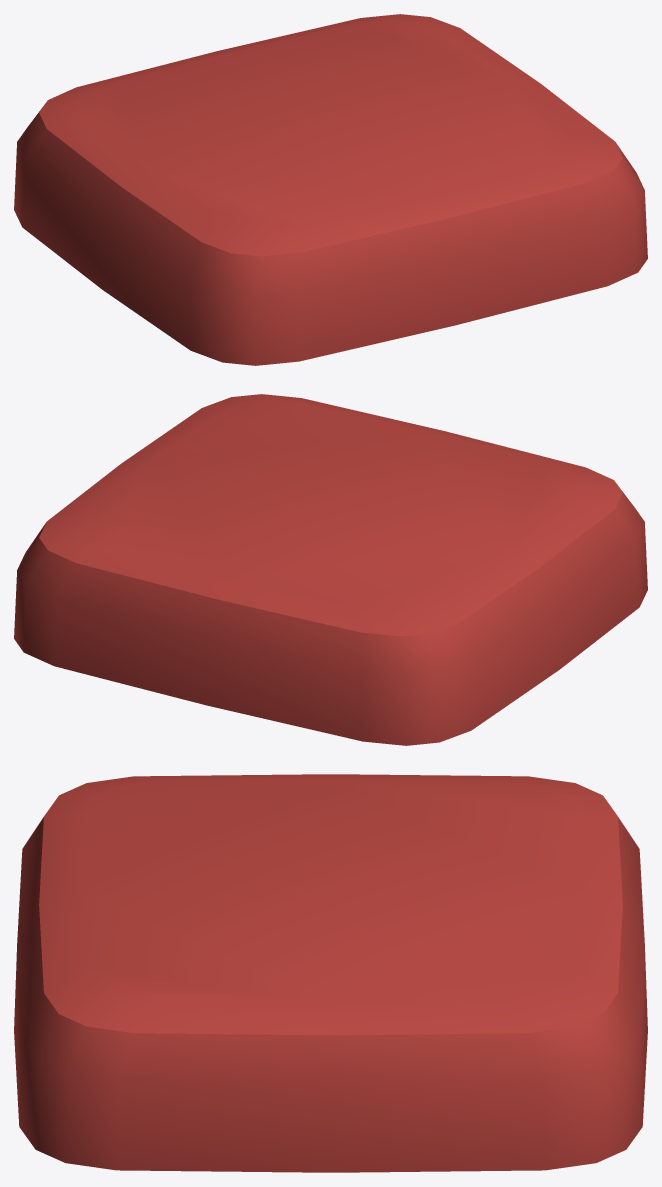
File: trunk_lid.glb
The picture shows the model from 3 angles, top to bottom: view 1: azimuth 30°, elevation 25°; view 2: azimuth 150°, elevation 25°; view 3: azimuth 270°, elevation 25°; orthographic projection. The views are drawn at different scales.
Parts seen in each view (by area): view 1: lod0; view 2: lod0; view 3: lod0.
Part boxes in pixels (x1,y1,x2,y2): lod0: (14,14,647,365); lod0: (14,394,647,745); lod0: (14,774,647,1172).
Size of what is drawn, in the model's own units: 0.3636 by 0.0832 by 0.3434.
